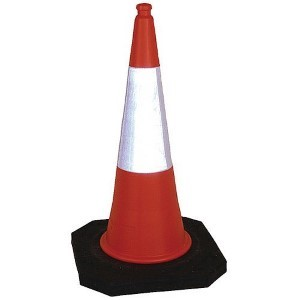traffic cone: (71, 3, 227, 297)
